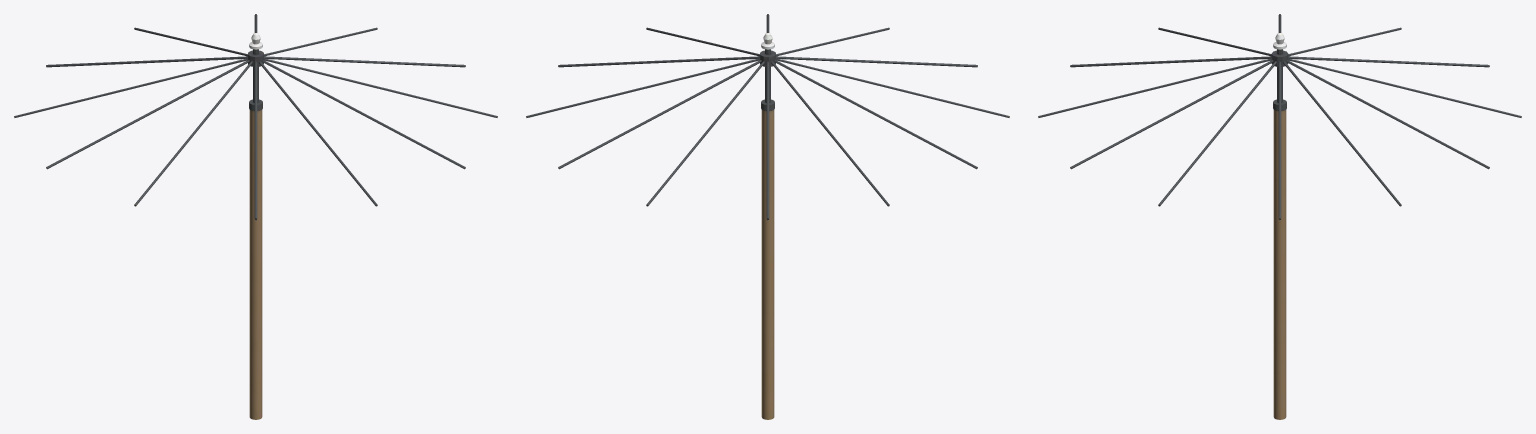
The model's file is parasol_round.glb.
3 renders of one model, left to right at view 1: azimuth 30°, elevation 25°; view 2: azimuth 150°, elevation 25°; view 3: azimuth 270°, elevation 25°, orthographic.
Parts seen in each view (by area): view 1: parasol_round; view 2: parasol_round; view 3: parasol_round.
Part boxes in pixels (x1,y1,x2,y2): parasol_round: (14,14,497,419); parasol_round: (526,14,1009,419); parasol_round: (1038,14,1521,419).
Bounding box in the file's own units: 3.48 × 3.06 × 3.48.
1 material, 1 textured.
